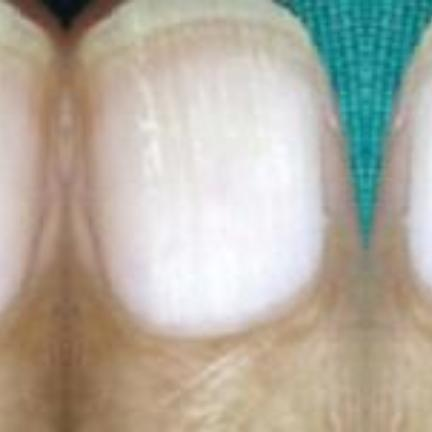Nail: (76, 1, 324, 336), (0, 1, 54, 318), (407, 21, 432, 301)
